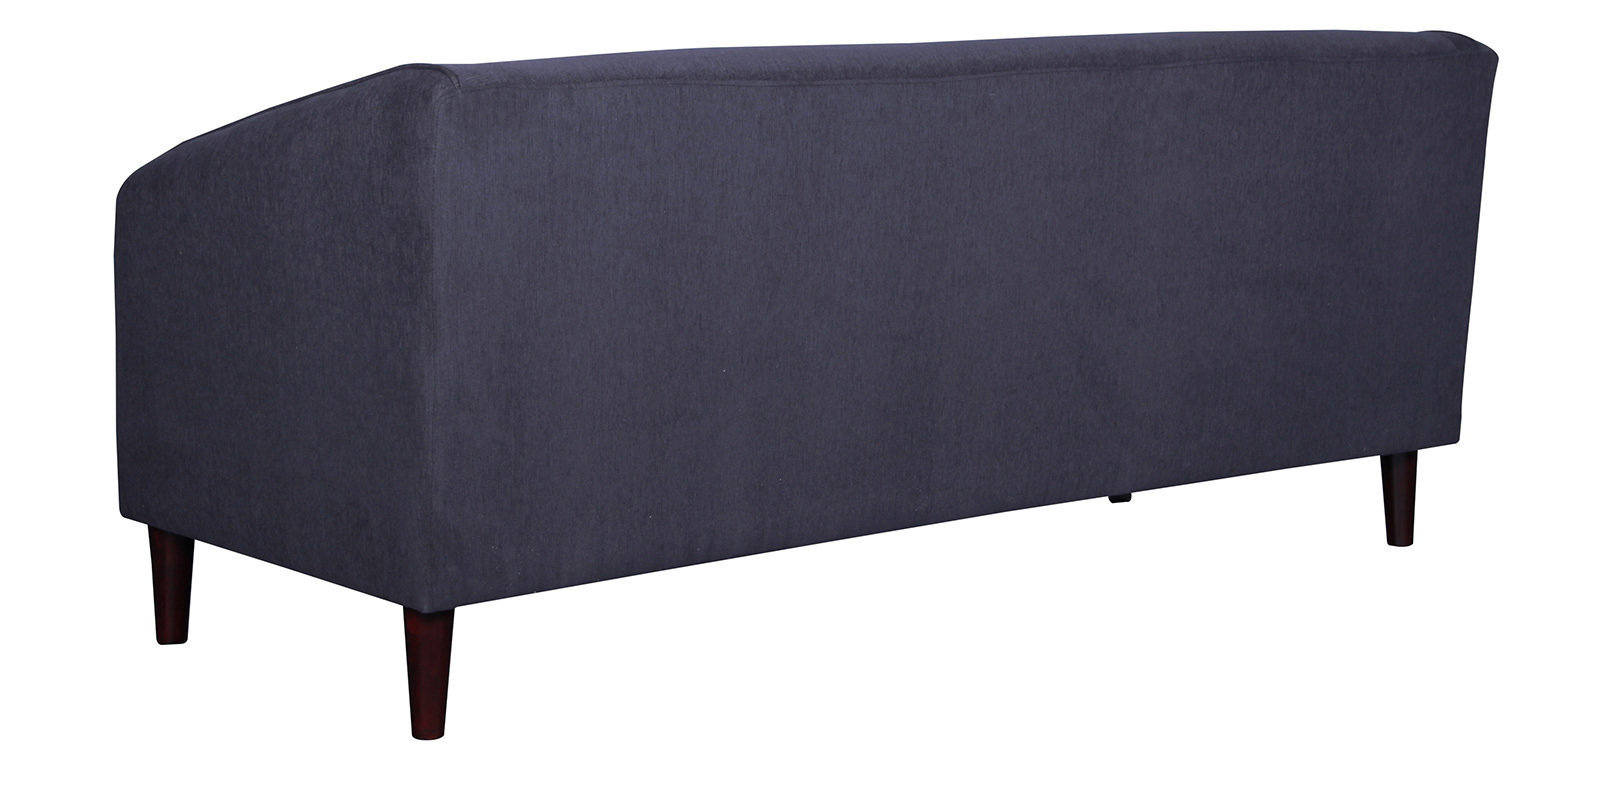Nina Three Seater Sofa in Charcoal Grey Colour by CasaCraft: (113, 28, 1500, 742)
